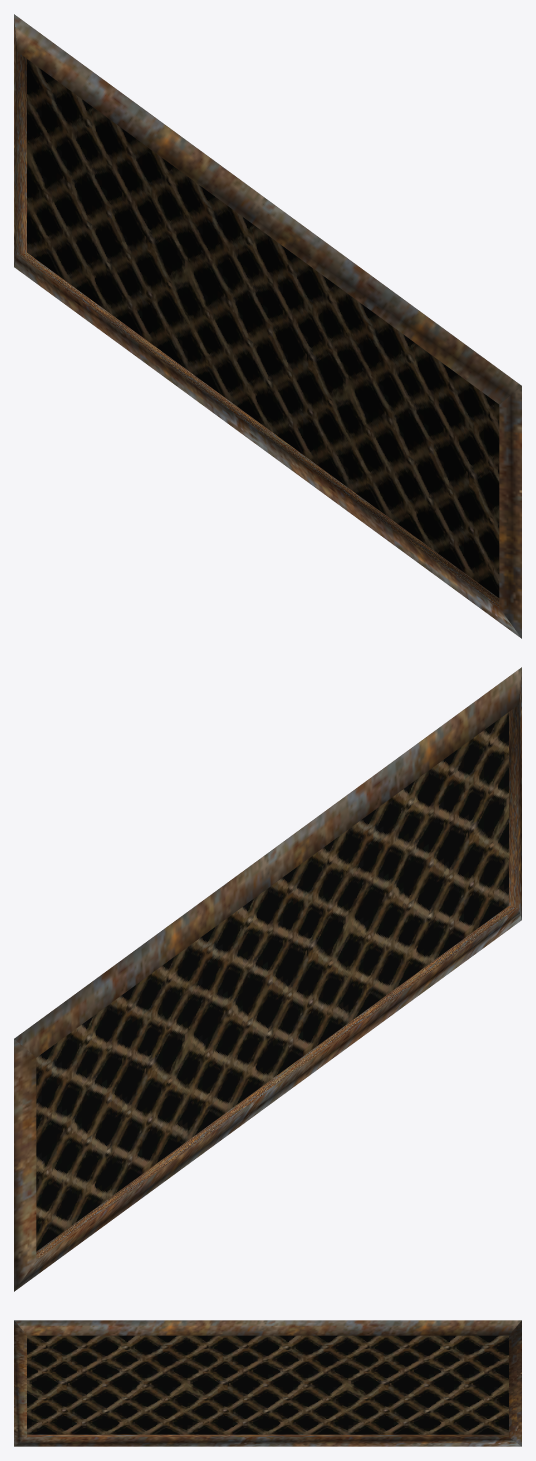
The model's file is DWARF_PALACE_MAINHALL_THRONEVENT01.fbx.
The picture shows the model from 3 angles, top to bottom: view 1: azimuth 30°, elevation 25°; view 2: azimuth 150°, elevation 25°; view 3: azimuth 270°, elevation 25°; orthographic projection. The views are drawn at different scales.
Visible parts, largest first — view 1: DWARF_PALACE_MAINHALL_THRONEVENT01; view 2: DWARF_PALACE_MAINHALL_THRONEVENT01; view 3: DWARF_PALACE_MAINHALL_THRONEVENT01.
Boxes of the visible parts, x1,y1,x2,y2 form: DWARF_PALACE_MAINHALL_THRONEVENT01: [14, 14, 521, 638]; DWARF_PALACE_MAINHALL_THRONEVENT01: [14, 667, 521, 1291]; DWARF_PALACE_MAINHALL_THRONEVENT01: [14, 1320, 521, 1446].
Size of the model in its own units: 866 by 10996 by 40000.
2 materials, 2 textured.
